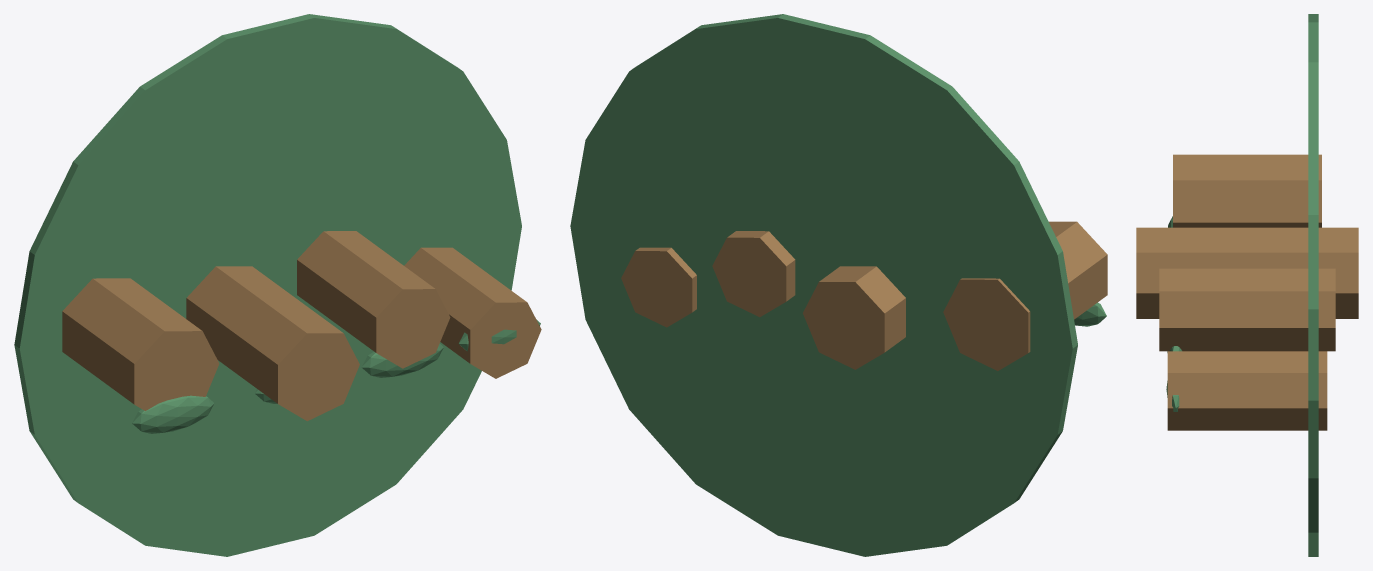
Rendered from 03_ambient_object_cluster.glb.
3 views of the same model, side by side, from view 1: azimuth 30°, elevation 25°; view 2: azimuth 150°, elevation 25°; view 3: azimuth 270°, elevation 25° (orthographic). The views are drawn at different scales.
Visible parts, largest first — view 1: scatter_base, root_stump_1, root_stump_0, root_stump_2, root_stump_3, moss_0, moss_2; view 2: scatter_base, root_stump_0, root_stump_1, root_stump_2, root_stump_3; view 3: root_stump_2, root_stump_3, root_stump_1, root_stump_0, scatter_base.
Part boxes in pixels (left/top/right/bottom): scatter_base: left=14, top=14, right=521, bottom=556; root_stump_1: left=186, top=266, right=359, bottom=421; root_stump_0: left=62, top=278, right=219, bottom=410; root_stump_2: left=297, top=231, right=450, bottom=368; root_stump_3: left=404, top=247, right=541, bottom=378; moss_0: left=132, top=395, right=214, bottom=433; moss_2: left=361, top=343, right=443, bottom=377; scatter_base: left=570, top=14, right=1077, bottom=556; root_stump_0: left=943, top=221, right=1107, bottom=370; root_stump_1: left=803, top=266, right=905, bottom=369; root_stump_2: left=712, top=231, right=795, bottom=317; root_stump_3: left=621, top=247, right=696, bottom=327; root_stump_2: left=1159, top=268, right=1335, bottom=351; root_stump_3: left=1167, top=351, right=1327, bottom=430; root_stump_1: left=1136, top=227, right=1358, bottom=318; root_stump_0: left=1173, top=154, right=1321, bottom=227; scatter_base: left=1308, top=14, right=1318, bottom=556.
Size of the model in its own units: 1.9 by 1.87 by 0.7743.
